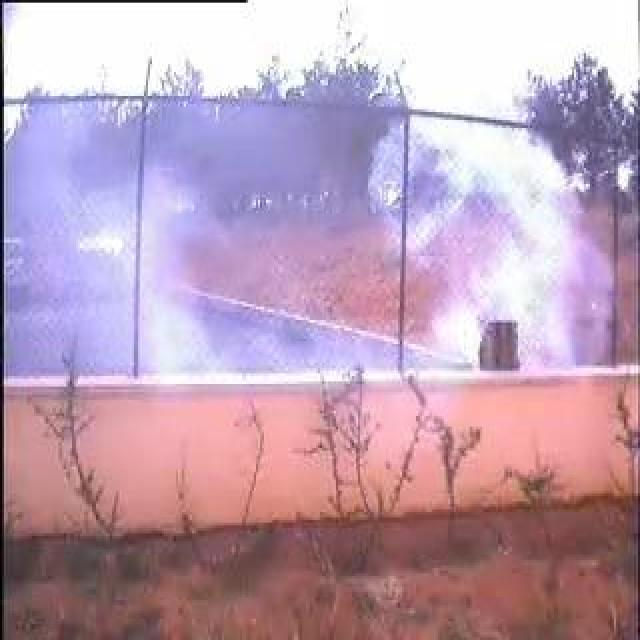Smoke: (74, 113, 606, 370)
